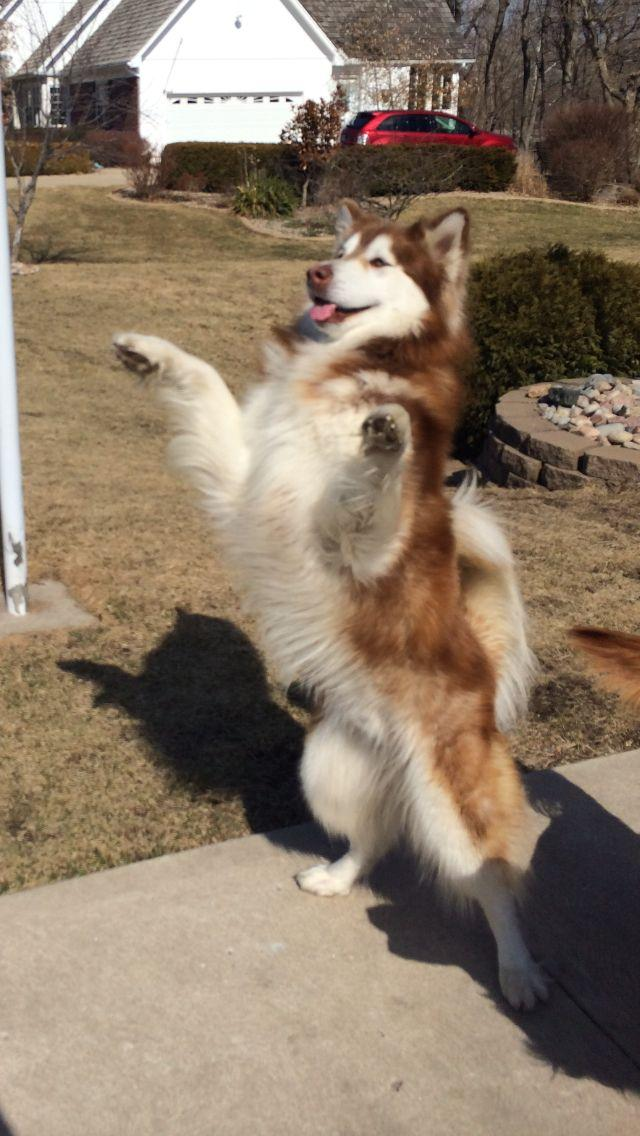dog: (115, 203, 545, 1007), (569, 627, 639, 707)
